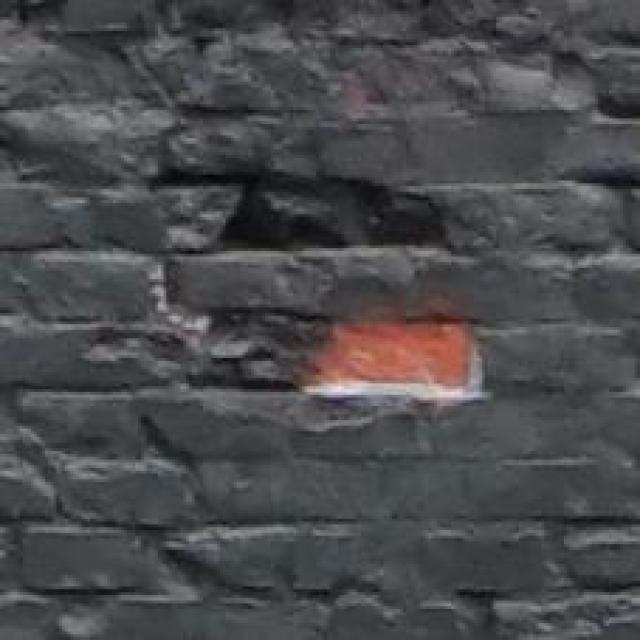Crack: (111, 118, 528, 472)
